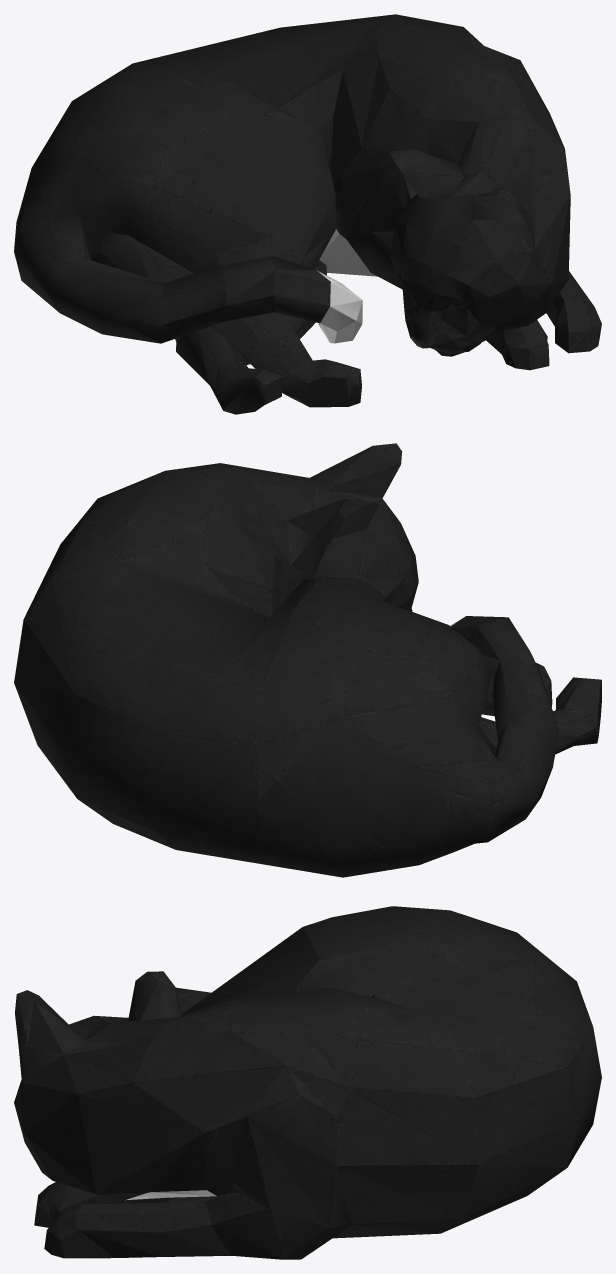
Rendered from sleeping-cat.glb.
3 renders of one model, top to bottom at view 1: azimuth 30°, elevation 25°; view 2: azimuth 150°, elevation 25°; view 3: azimuth 270°, elevation 25°, orthographic. The views are drawn at different scales.
Parts seen in each view (by area): view 1: cat_sleeping_v1_N1_ZTX3; view 2: cat_sleeping_v1_N1_ZTX3; view 3: cat_sleeping_v1_N1_ZTX3.
Part boxes in pixels (<box>): cat_sleeping_v1_N1_ZTX3: <box>14,14,601,414</box>; cat_sleeping_v1_N1_ZTX3: <box>14,443,601,877</box>; cat_sleeping_v1_N1_ZTX3: <box>14,906,601,1259</box>.
Bounding box in the file's own units: 28.32 × 13.08 × 29.83.
1 material, 1 textured.
